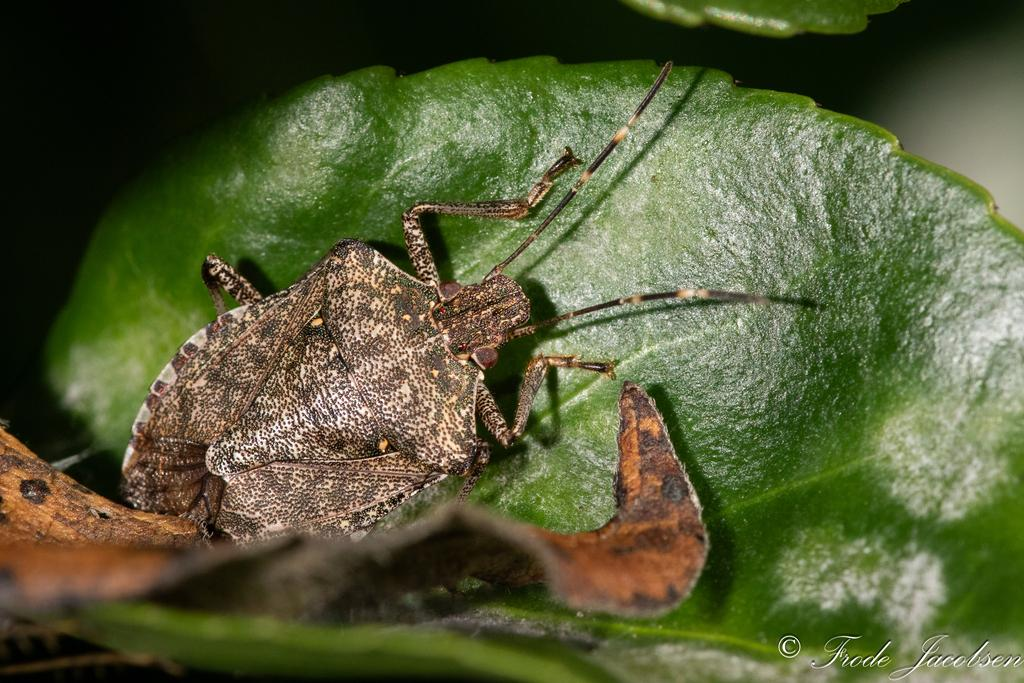stink_bugs: (0, 0, 873, 637)
